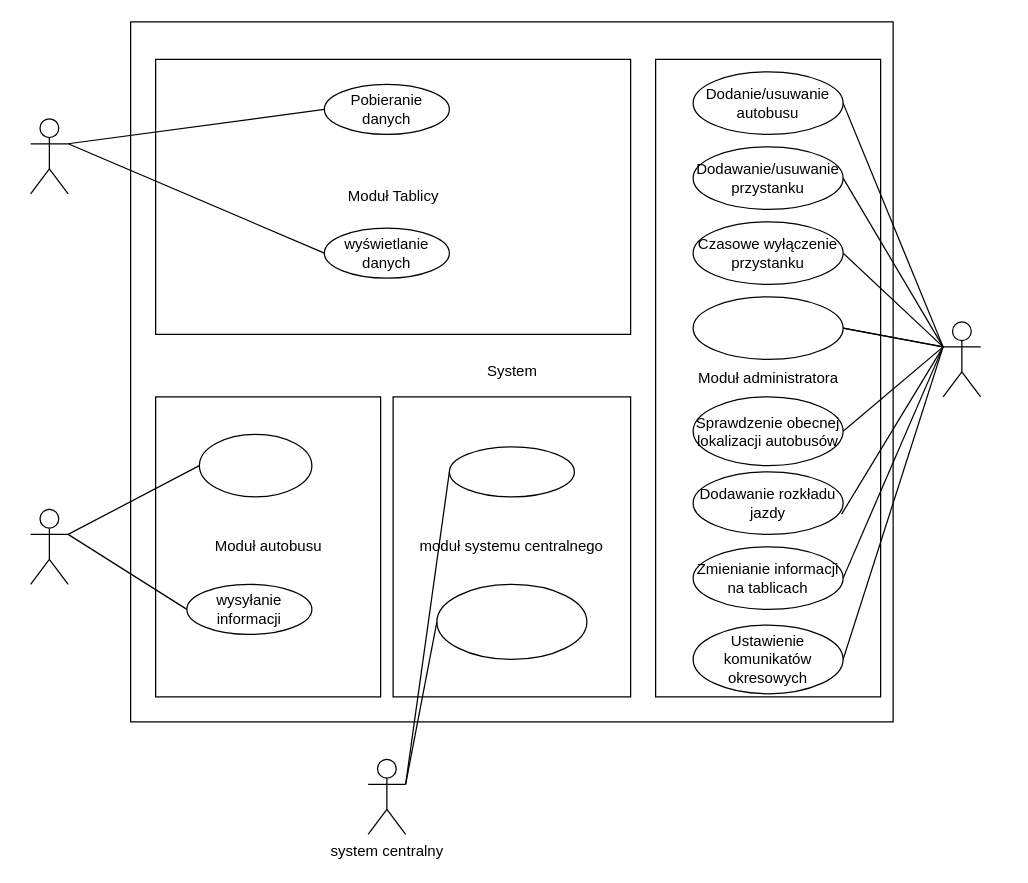
The diagram is 1028 pixels wide and 883 high, and some of its shapes have lost their labels. Each missing label, with the centre of its shape:
"Administrator" belongs at point 961,359.
"aktualizowanie czasów przyjazdów" belongs at point 511,621.
"Autobus" belongs at point 48,546.
"obliczanie czasu" belongs at point 511,471.
"Tablica" belongs at point 48,156.
"Wyłączenie tablicy" belongs at point 767,327.
"Zapisanie informacji" belongs at point 255,465.
